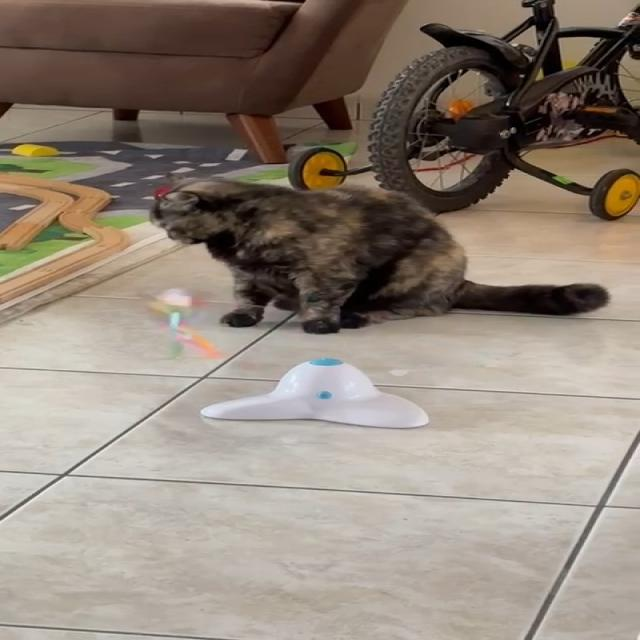authorized: (148, 172, 611, 334)
